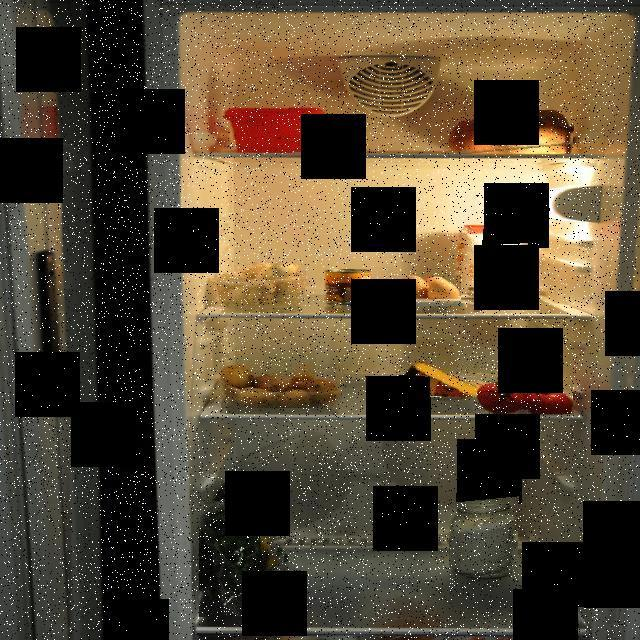butter: (221, 106, 325, 155)
cheese: (400, 362, 496, 398)
corn: (324, 266, 373, 308)
eggs: (393, 275, 461, 305)
mushrooms: (215, 262, 306, 306)
potato: (221, 360, 344, 408)
spinach: (199, 477, 290, 618)
sugar: (450, 494, 520, 580), (454, 226, 530, 304)
sweet_potato: (444, 110, 574, 156)
tomato: (478, 372, 574, 414)
